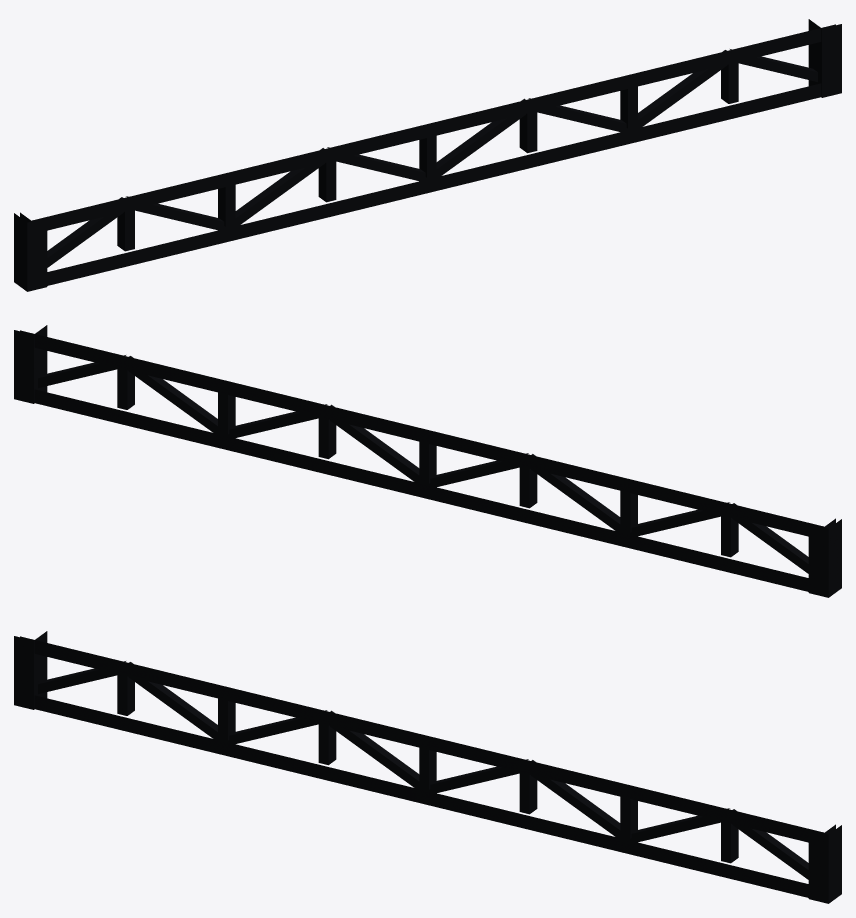
Rendered from tt_struct_aquatic_truss_etrim.glb.
3 views of the same model, one above another, from view 1: azimuth 30°, elevation 25°; view 2: azimuth 150°, elevation 25°; view 3: azimuth 330°, elevation 25° (orthographic).
Visible parts, largest first — view 1: Truss_Steel; view 2: Truss_Steel; view 3: Truss_Steel.
Part boxes in pixels (x1,y1,x2,y2): Truss_Steel: (14,19,841,291); Truss_Steel: (14,325,841,597); Truss_Steel: (14,631,841,903).
Bounding box in the file's own units: 24.63 × 2.02 × 0.7.
2 materials, 1 textured.
